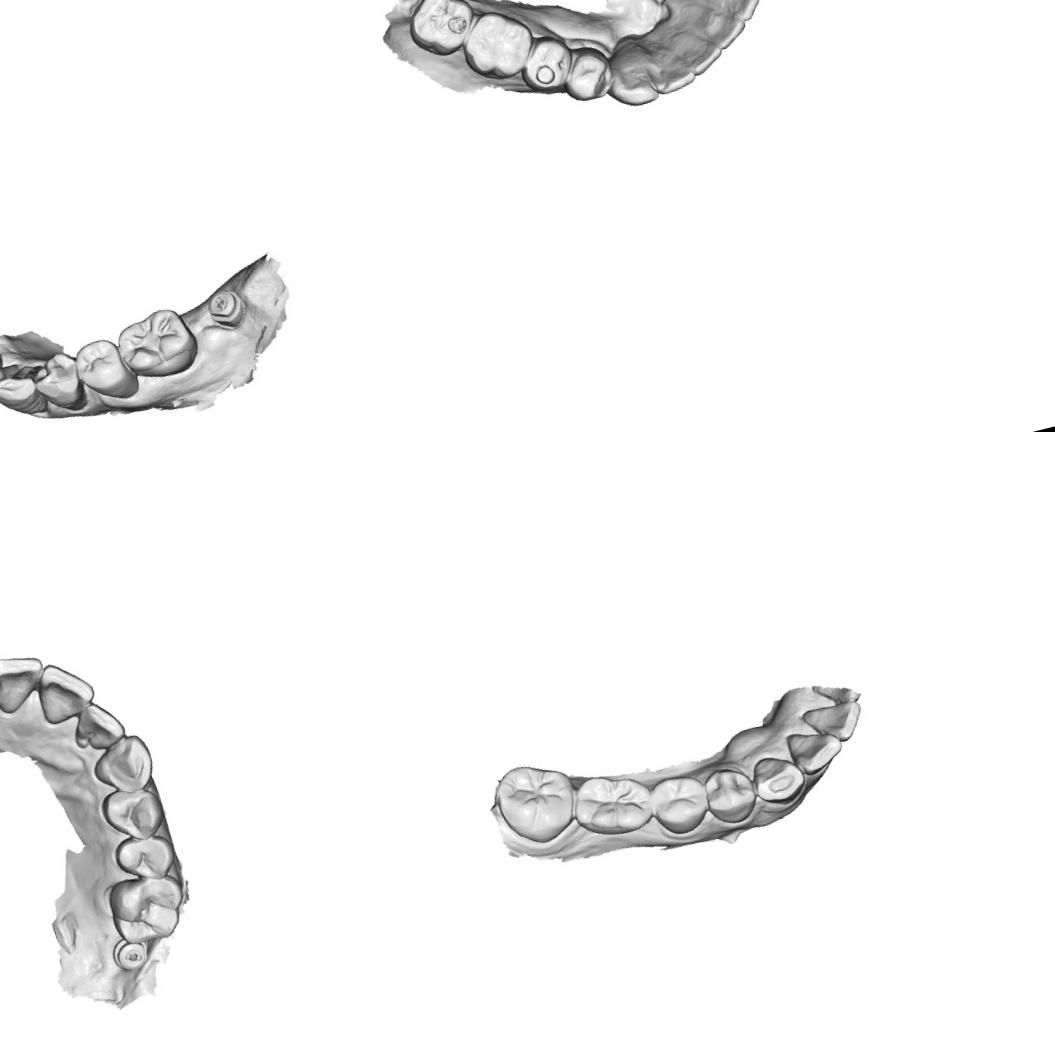canine: (84, 729, 160, 802), (596, 35, 667, 113), (743, 744, 812, 812), (0, 360, 51, 425)
implant_minus: (202, 284, 250, 334), (105, 932, 154, 978)
incisor: (29, 652, 102, 728), (664, 7, 729, 81), (637, 22, 700, 97), (63, 690, 131, 758), (797, 690, 870, 751), (782, 718, 848, 780), (0, 648, 52, 720), (692, 1, 748, 56), (710, 0, 770, 29), (0, 359, 27, 411)
molar: (487, 751, 585, 853), (110, 299, 204, 387), (564, 761, 658, 846), (453, 0, 542, 88), (102, 866, 194, 951), (399, 0, 484, 65)
premolar: (642, 764, 715, 841), (70, 331, 142, 408), (95, 778, 170, 850), (512, 28, 580, 98), (109, 824, 181, 890), (696, 758, 761, 831), (28, 346, 89, 419), (556, 38, 619, 106)
